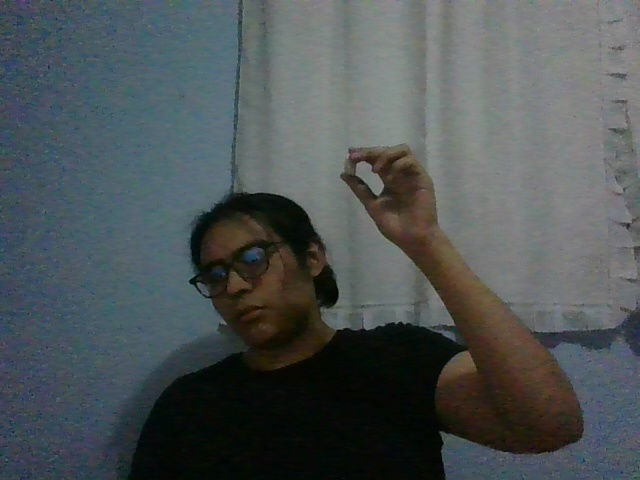goma: (344, 159, 356, 176)
